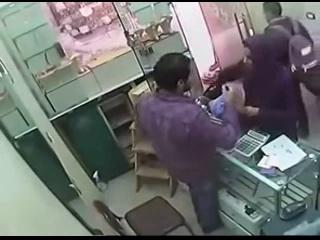Normal: (134, 52, 242, 232), (206, 32, 305, 142), (262, 3, 320, 139), (92, 196, 194, 236), (233, 129, 270, 158)
